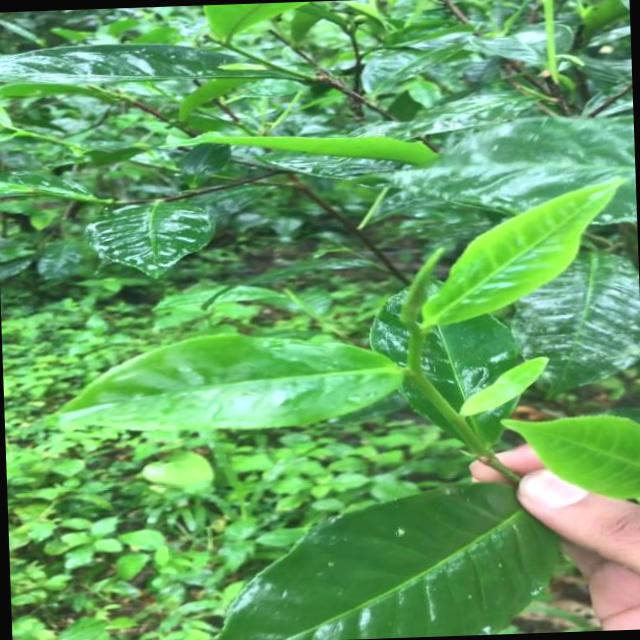Stem: (410, 371, 455, 415)
